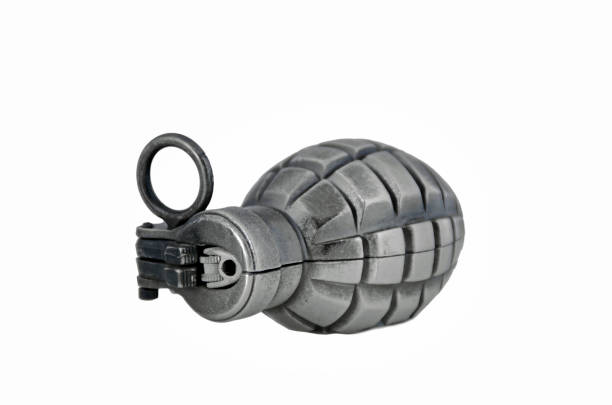e1: (132, 132, 468, 335)
